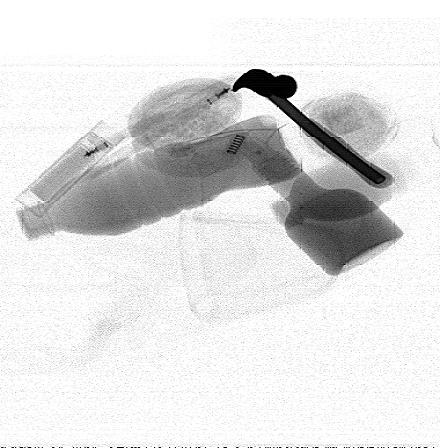Hammer: (231, 68, 394, 189)
